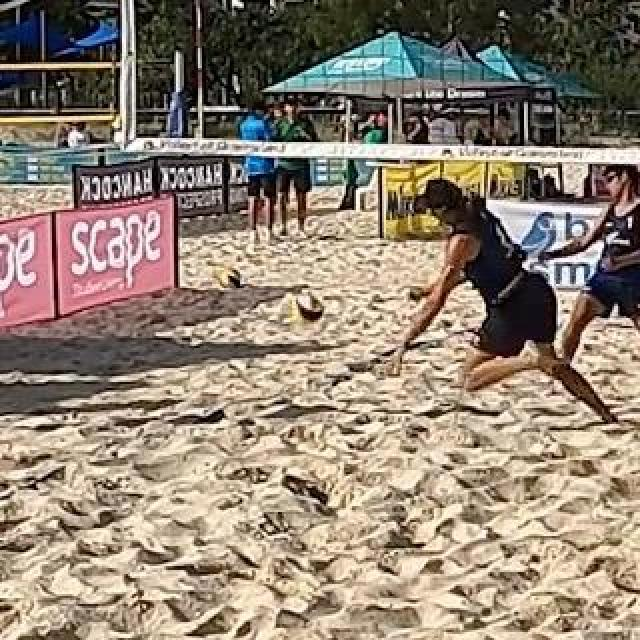volleyball: (292, 294, 324, 326), (218, 268, 240, 290)
